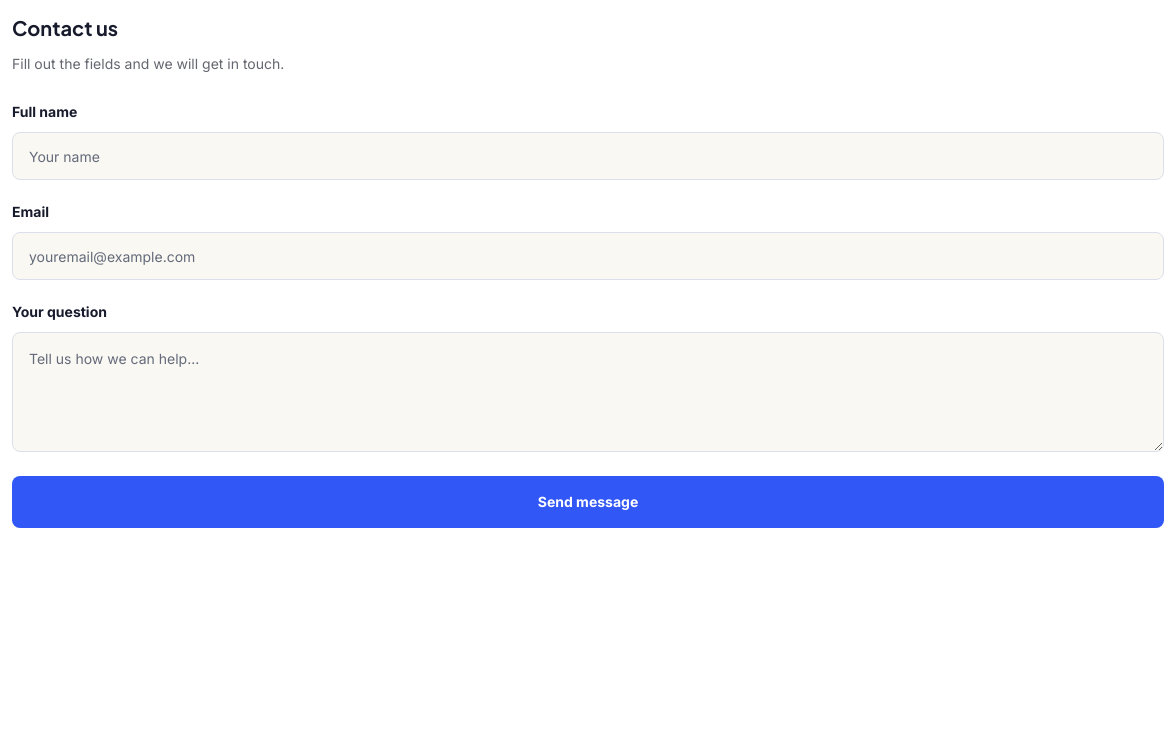
Review Focus 2: double-clicking submit sends exactly one submission
Step 1. Type "Maya Chen" into the field labelled "Full name" → (588, 156), box left=12, top=132, right=1164, bottom=180
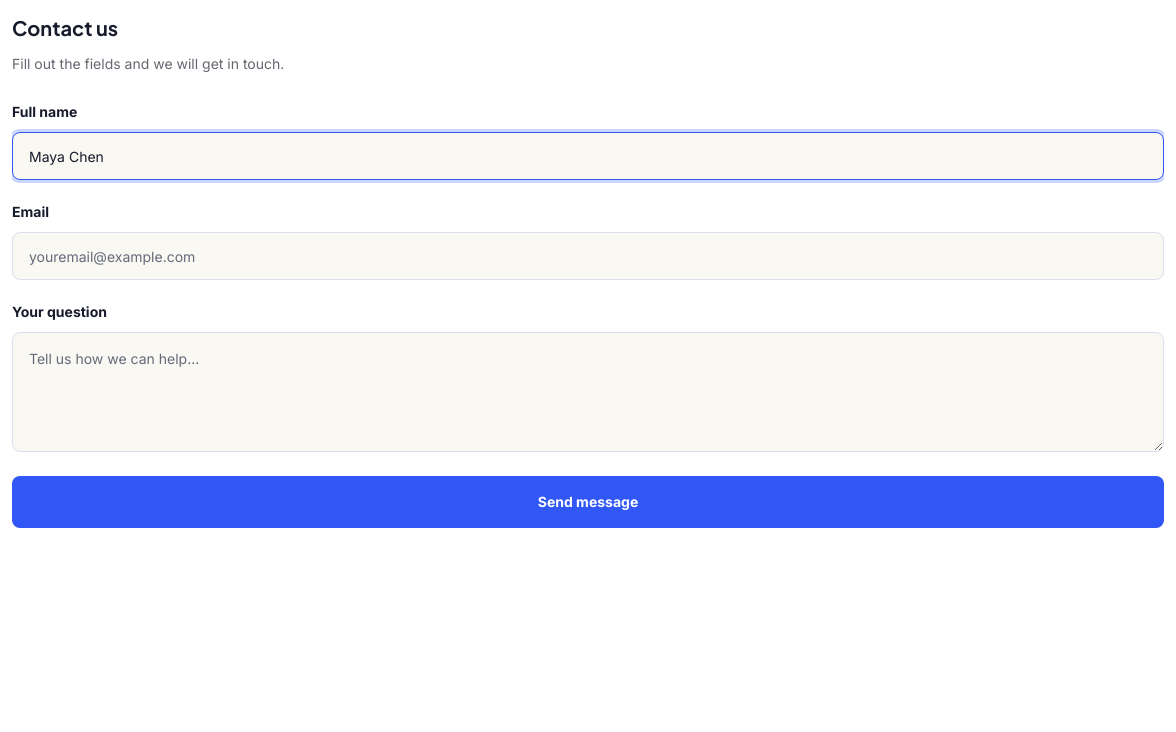
Step 2. Type "maya@example.com" into the field labelled "Email" → (588, 256), box left=12, top=232, right=1164, bottom=280
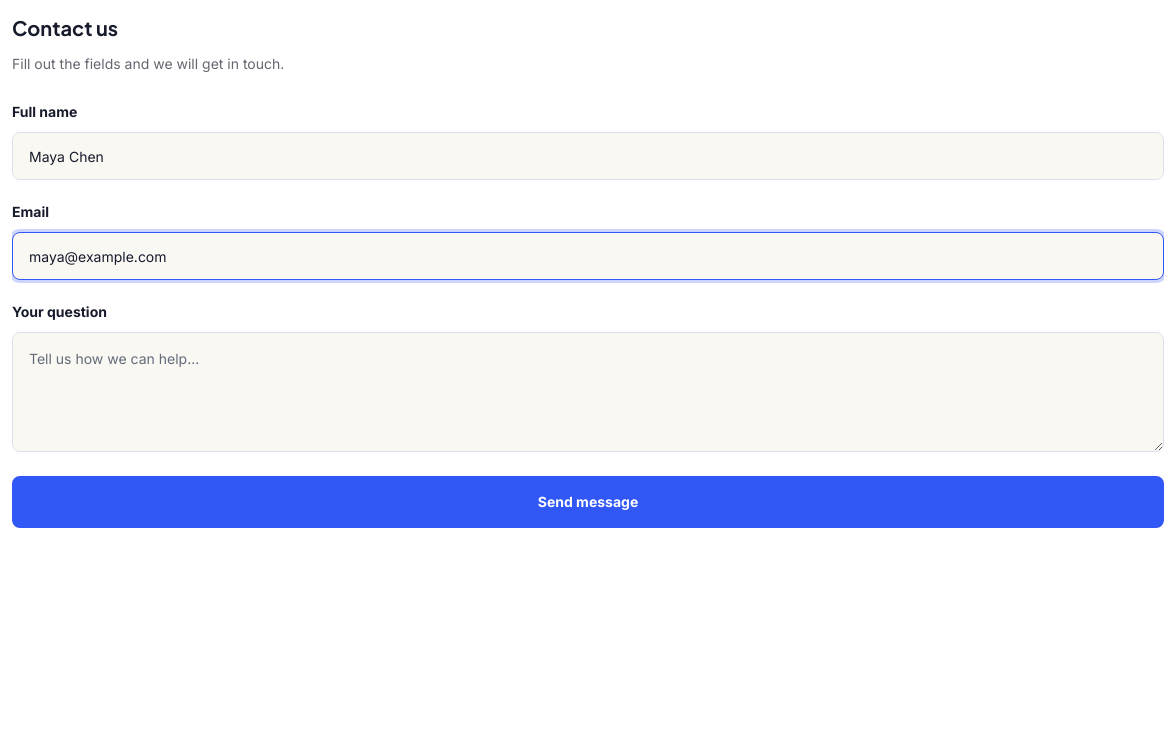
Step 3. Type "Which course should I start with?" into the text box labelled "Your question" → (588, 392), box left=12, top=332, right=1164, bottom=452
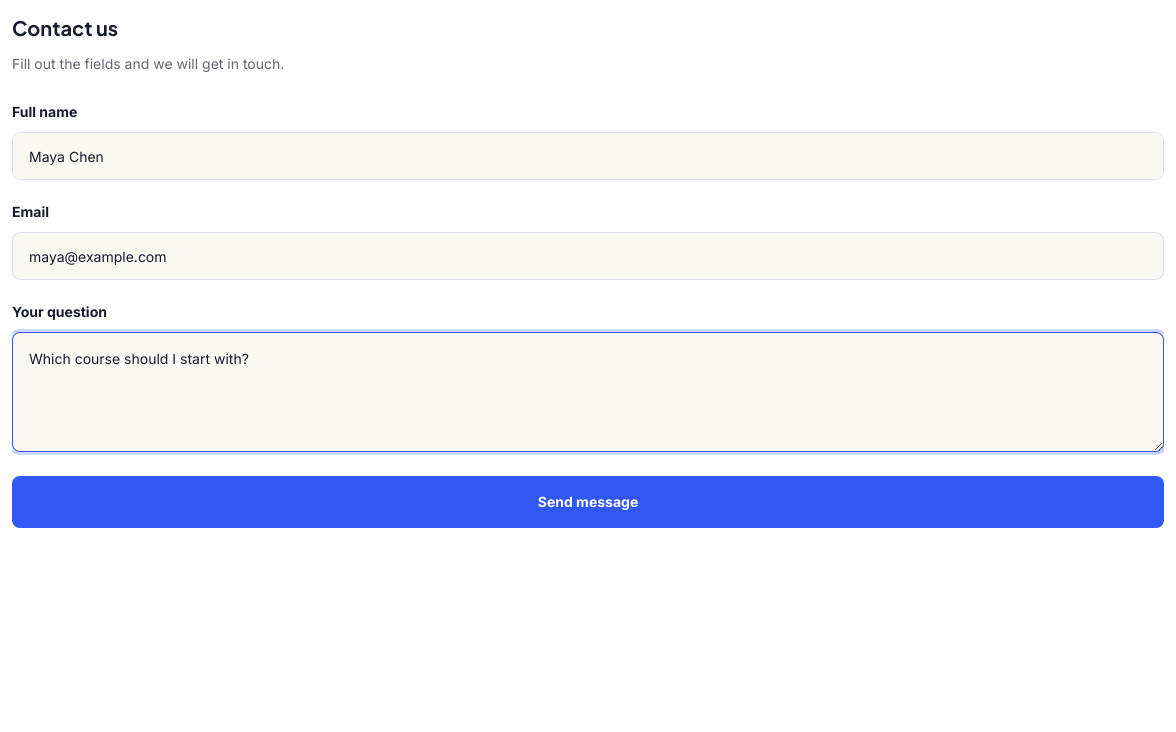
Step 4. Double-click the button "Send message" → (588, 502), box left=12, top=476, right=1164, bottom=528
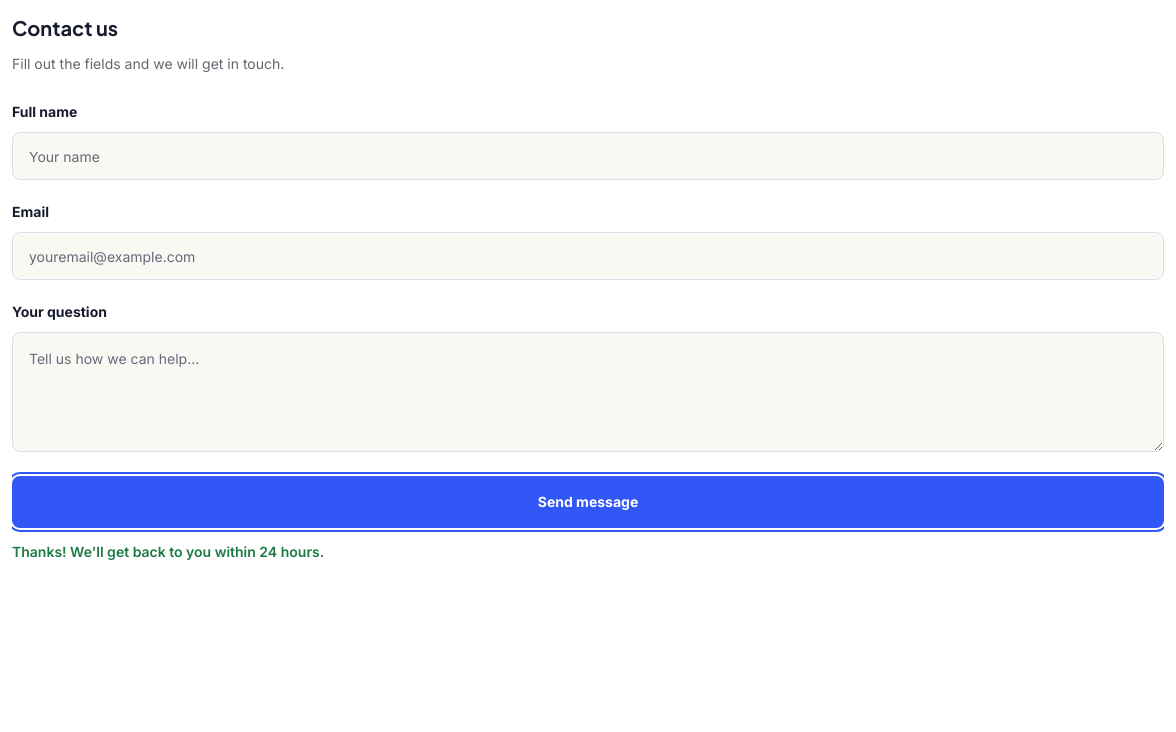
Check: the message reads "Thanks! We'll get back to you within 24 hours.", box left=12, top=543, right=324, bottom=560
